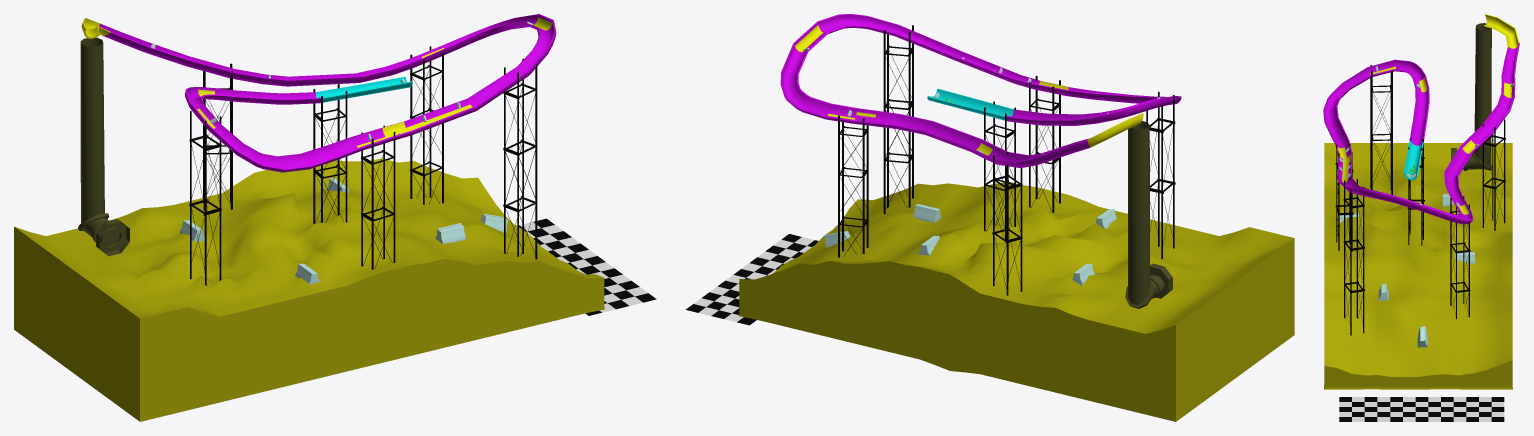
The model's file is ball race.fbx.
3 renders of one model, left to right at view 1: azimuth 30°, elevation 25°; view 2: azimuth 150°, elevation 25°; view 3: azimuth 270°, elevation 25°, orthographic. The views are drawn at different scales.
Visible parts, largest first — view 1: sand, race_road, pipe, pPlane1, scaffold7, scaffold2, scaffold8, scaffold4, scaffold3, scaffold6, scaffold1, scaffold5; view 2: sand, race_road, pipe, pPlane1, scaffold1, scaffold7, scaffold3, scaffold2, scaffold6, scaffold8, scaffold4, scaffold5; view 3: sand, race_road, pPlane1, pipe, scaffold1, scaffold7, scaffold3, scaffold4, scaffold2, scaffold6, scaffold8, scaffold5 (+1 smaller).
Part boxes in pixels (x1,y1,x2,y2): sand: (14,158,604,421); race_road: (81,14,556,172); pipe: (78,37,129,256); pPlane1: (519,218,656,315); scaffold7: (189,111,221,285); scaffold2: (361,125,395,269); scaffold8: (313,84,347,224); scaffold4: (503,58,537,220); scaffold3: (503,121,537,259); scaffold6: (410,46,443,167); scaffold1: (203,63,232,210); scaffold5: (410,143,443,204); sand: (738,182,1294,421); race_road: (780,14,1181,168); pipe: (1125,121,1172,308); pPlane1: (685,234,818,325); scaffold1: (992,151,1022,295); scaffold7: (1146,91,1175,259); scaffold3: (883,77,913,214); scaffold2: (1029,75,1060,212); scaffold6: (838,115,868,224); scaffold8: (984,101,1015,240); scaffold4: (883,25,913,169); scaffold5: (838,200,868,257); sand: (1324,143,1512,389); race_road: (1323,14,1519,224); pPlane1: (1339,397,1504,421); pipe: (1451,23,1492,170); scaffold1: (1482,119,1505,230); scaffold7: (1370,65,1392,194); scaffold3: (1343,221,1364,335); scaffold4: (1343,178,1364,291); scaffold2: (1335,144,1353,251); scaffold6: (1450,196,1470,290); scaffold8: (1407,138,1424,245); scaffold5: (1450,268,1470,319).
Size of the model in its own units: 193 by 110 by 83.5.
